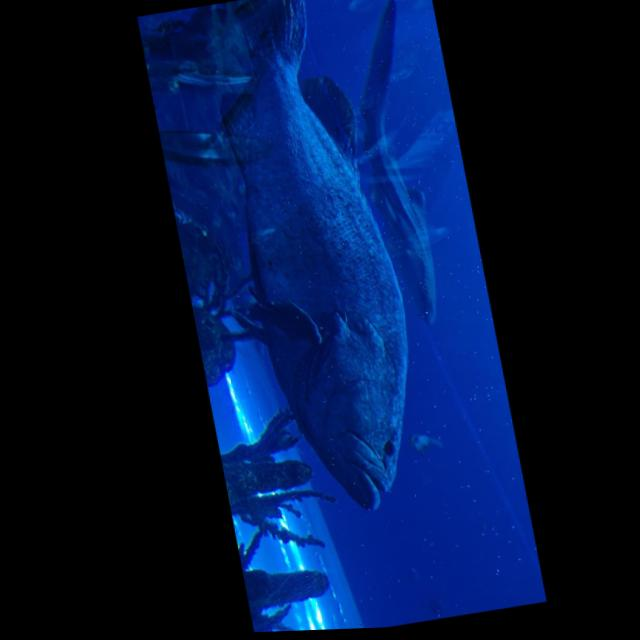Groupers: (198, 0, 447, 529)
